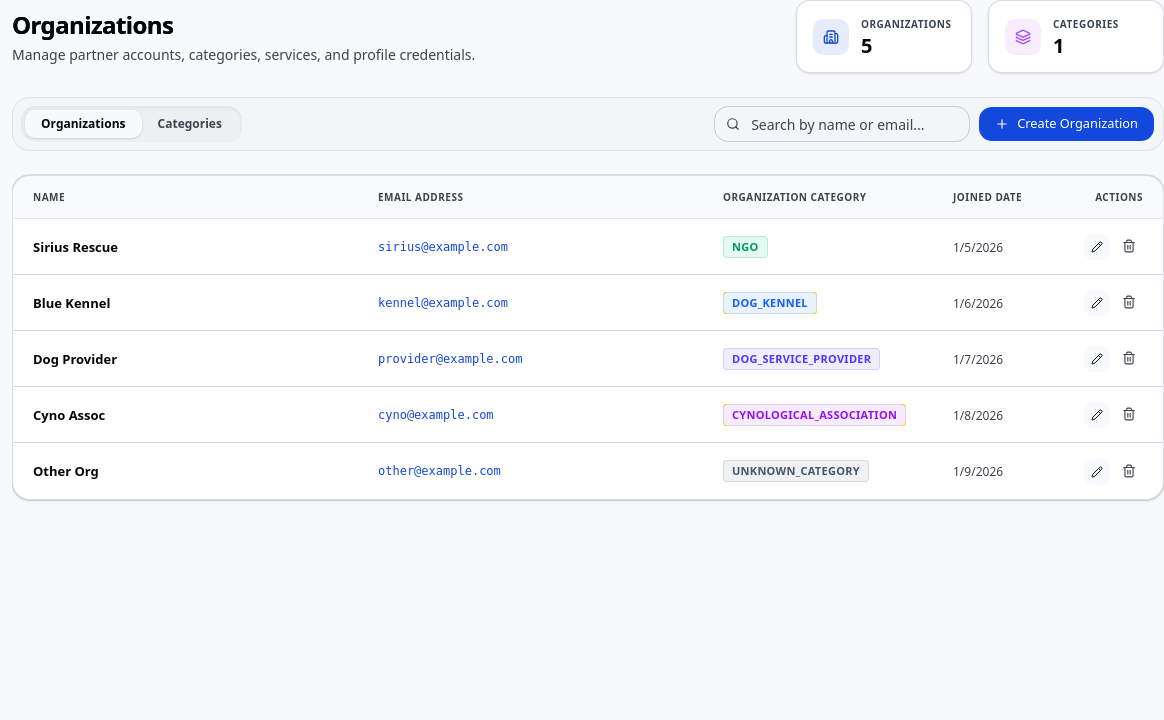
Test: OrganizationsTable Component › should filter results based on search input changes
# Search organization name
In the field with placeholder "Search by name or email...": (842, 124) [714,106,970,142], type "Sirius"
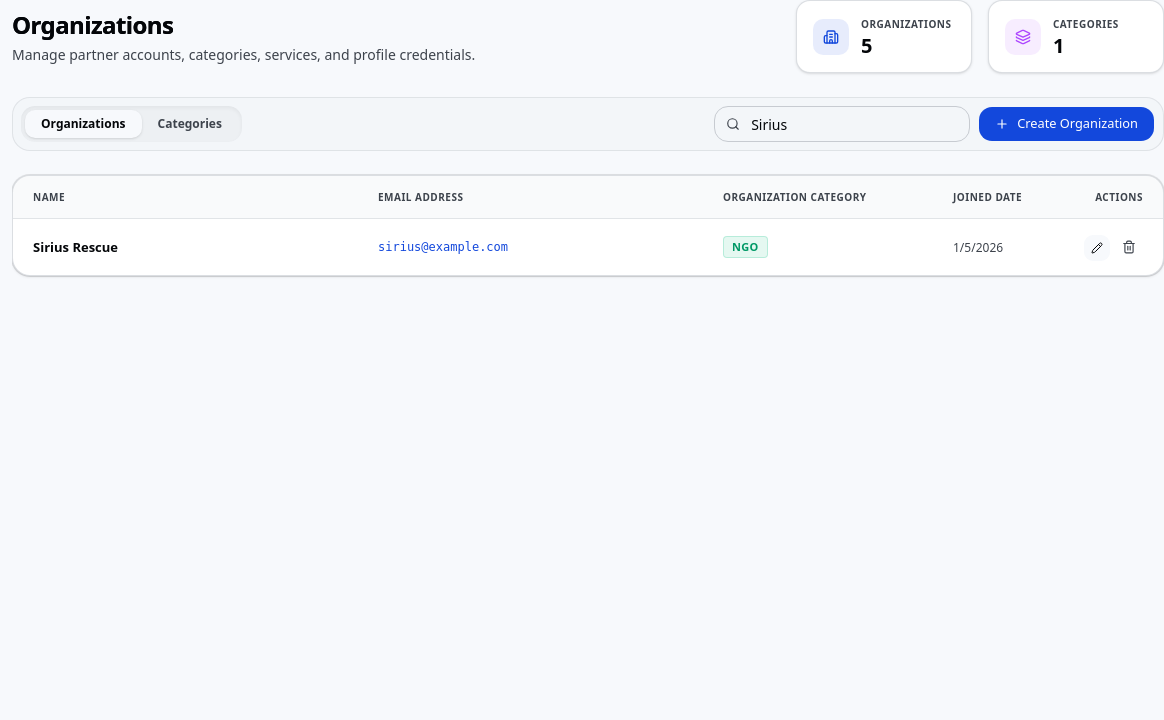
Expected: the text "Sirius Rescue" is shown, [33,238,118,256]
# Search query with no match
Replace the text in the field with placeholder "Search by name or email..." with "Unknown": (842, 124) [714,106,970,142]
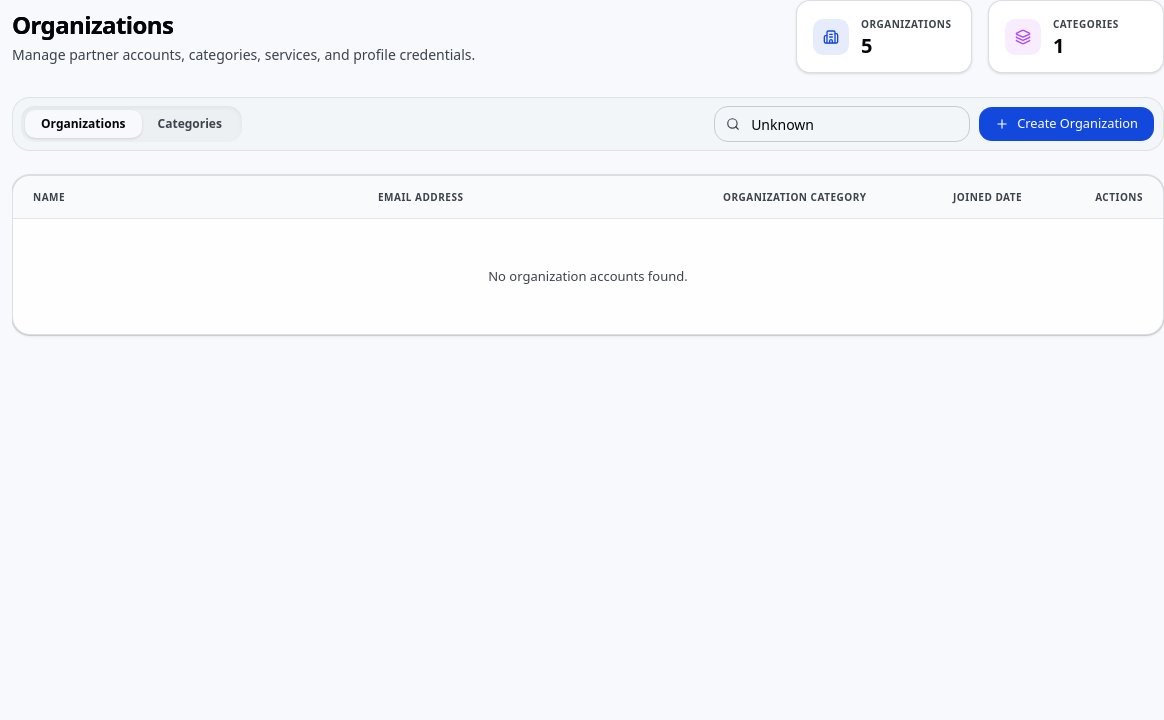
Expected: the text "Sirius Rescue" is gone
